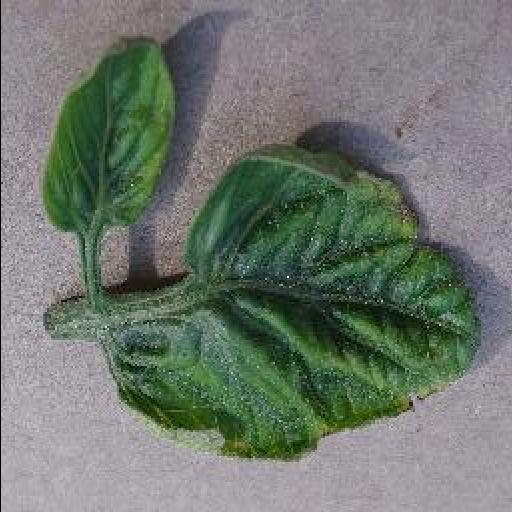disease_tomato: (114, 148, 484, 462), (43, 36, 173, 240)
